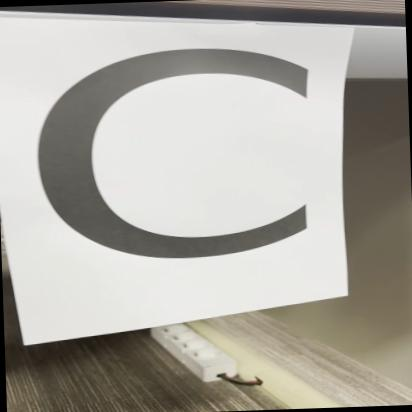seat: (0, 20, 346, 289)
